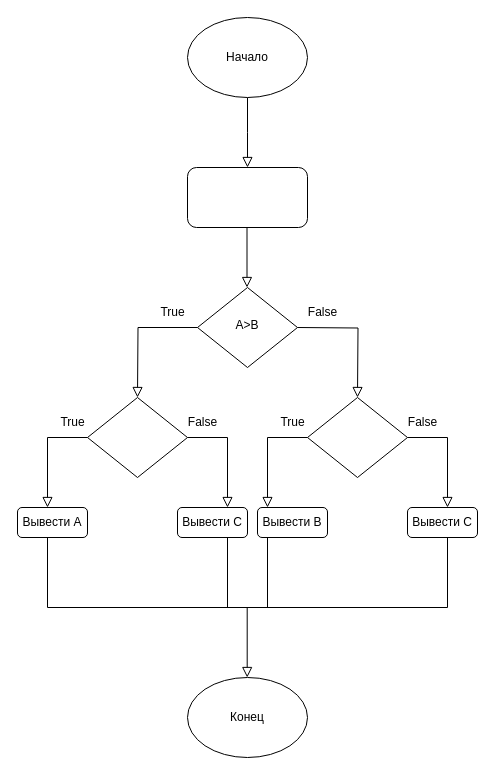
Image size: 495x775. Some labels were removed from this diagram. Each missing label, with the box of its shape:
A>C: (86, 396, 188, 478)
B>C: (306, 396, 408, 478)
Объявление A, B, C: (186, 166, 308, 228)
